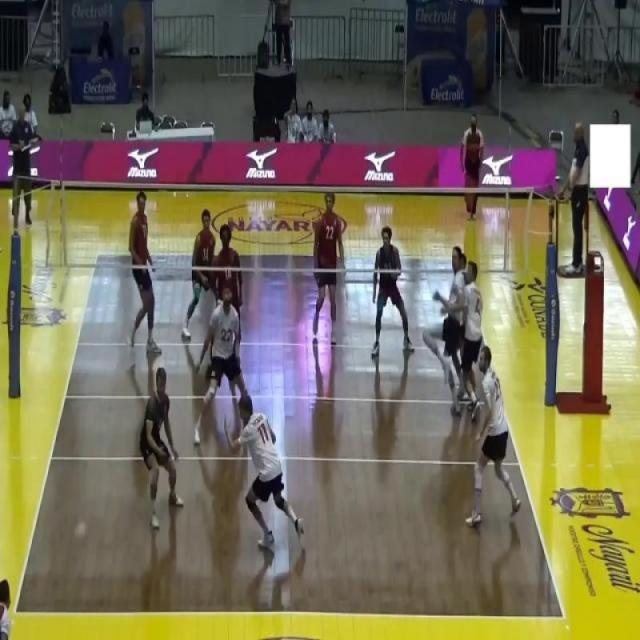volleyball: (74, 520, 87, 544)
